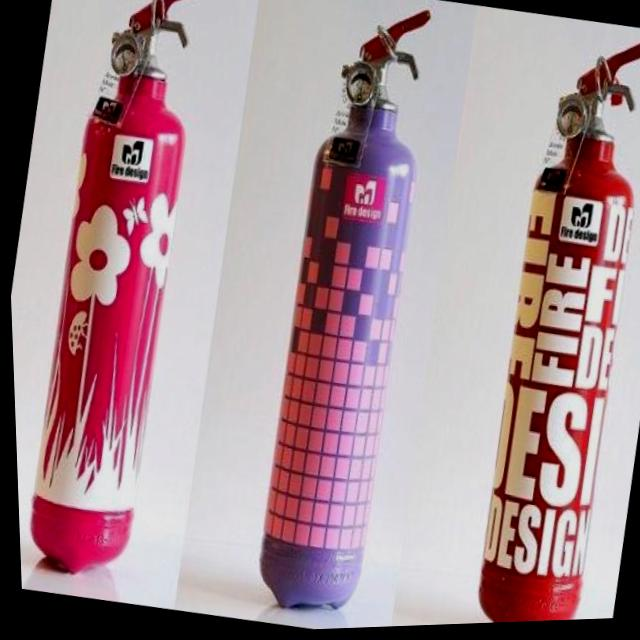FireExtinguisher: (220, 0, 462, 632), (0, 0, 231, 602), (439, 25, 640, 627)
